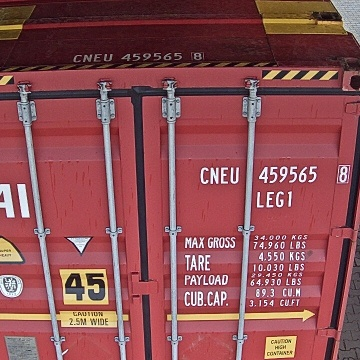serial_id: (200, 165, 349, 183)
